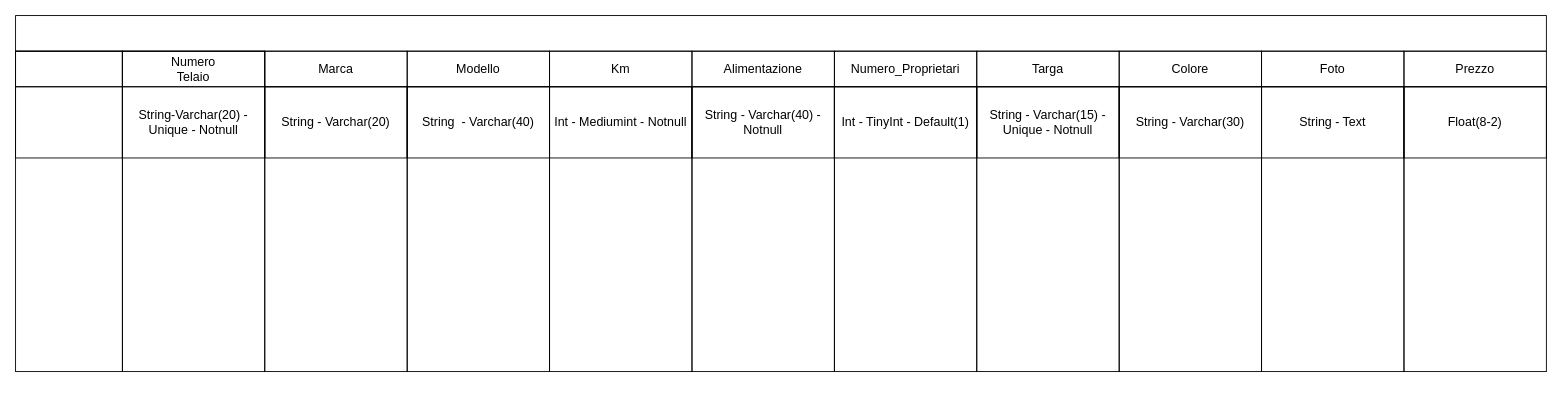
This 1562x394 diagram has some shape labels left out. Here are the shapes that lost their labels. From the top down, the centre of each, then its label:
the point at 780,33: Automobili Usate
the point at 68,68: Id
the point at 68,122: Notnull - Primary Key - Unique - Auto_Increment
